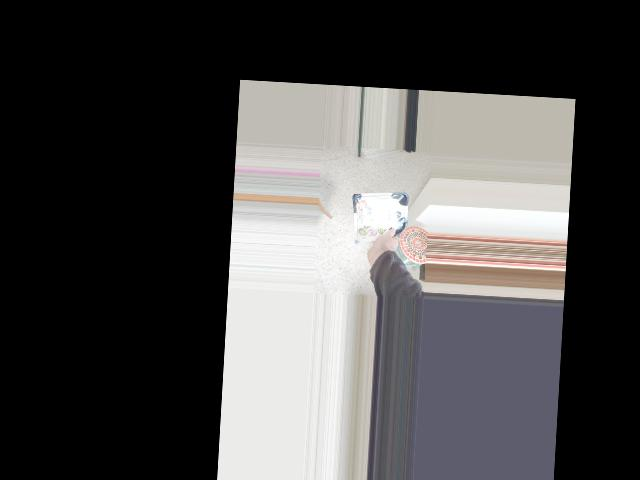cheese: (350, 200, 409, 265)
